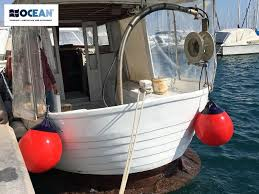buoy: (19, 128, 63, 174), (194, 111, 233, 146)
